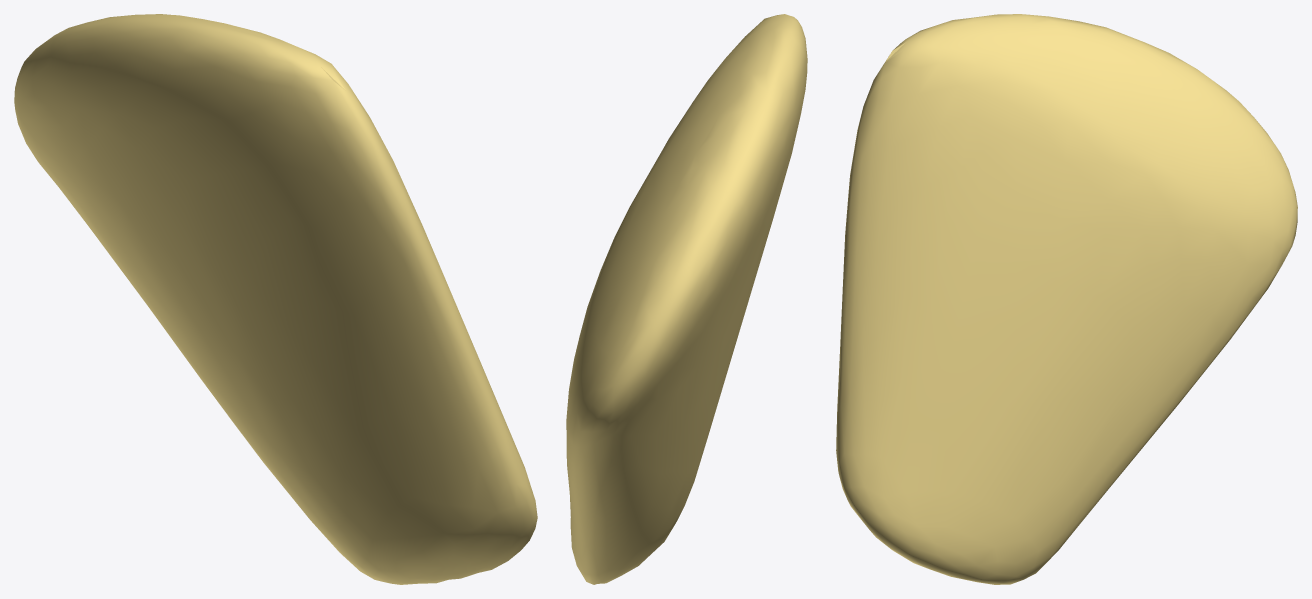
File: fma73335_fj7489m.glb
The picture shows the model from 3 angles, left to right: view 1: azimuth 30°, elevation 25°; view 2: azimuth 150°, elevation 25°; view 3: azimuth 270°, elevation 25°; orthographic projection. The views are drawn at different scales.
Visible parts, largest first — view 1: FMA73335_FJ7489M; view 2: FMA73335_FJ7489M; view 3: FMA73335_FJ7489M.
Part boxes in pixels (left/top/right/bottom): FMA73335_FJ7489M: left=14, top=14, right=537, bottom=584; FMA73335_FJ7489M: left=566, top=14, right=807, bottom=584; FMA73335_FJ7489M: left=836, top=14, right=1297, bottom=584.
Bounding box in the file's own units: 0.00239 × 0.00456 × 0.00385.
